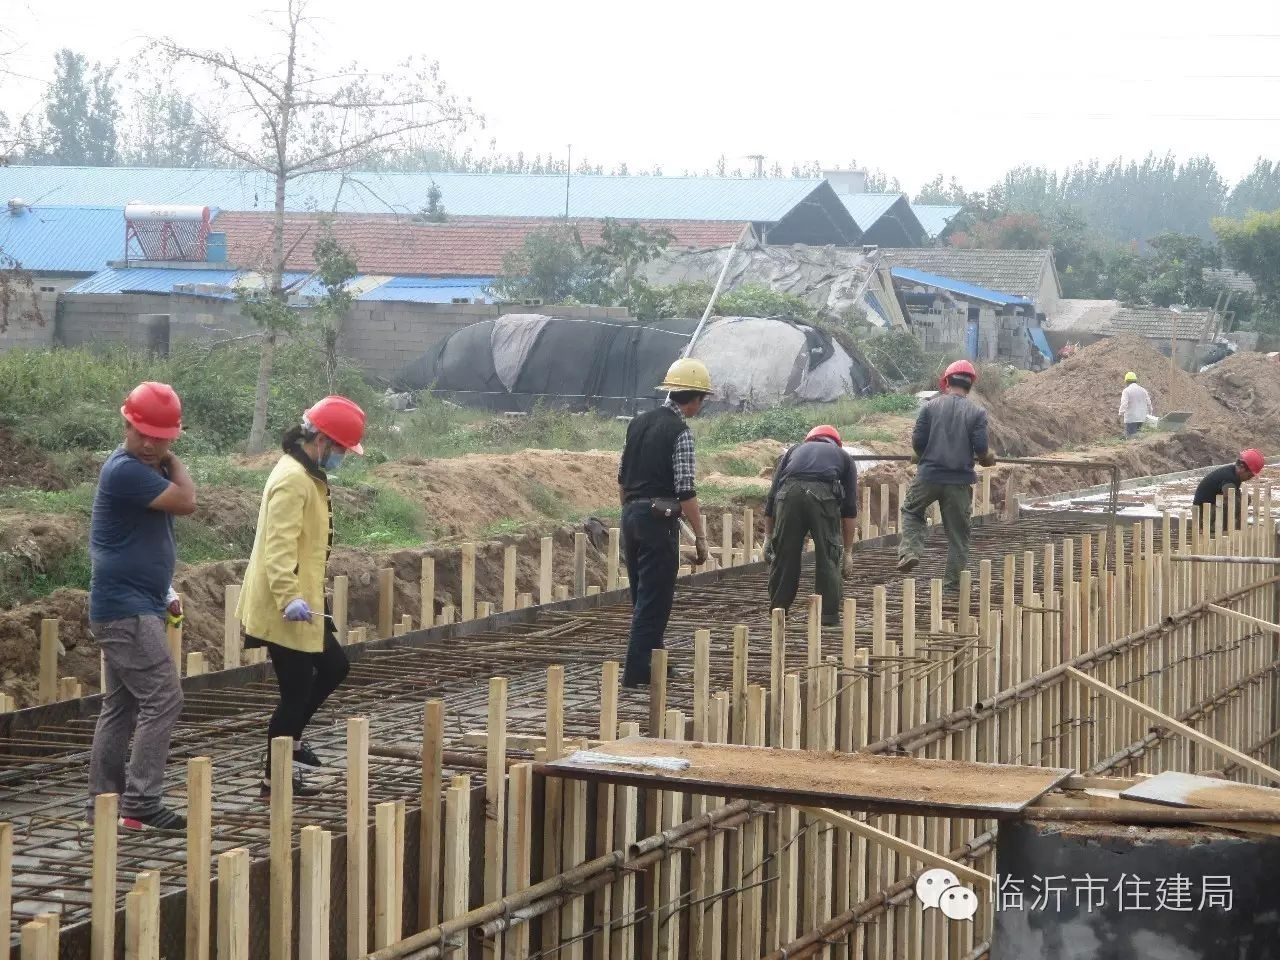red: (286, 390, 362, 471), (123, 378, 184, 463), (1232, 447, 1264, 484), (803, 419, 842, 451), (941, 358, 974, 394)
yellow: (657, 352, 712, 418), (1123, 370, 1138, 385)
